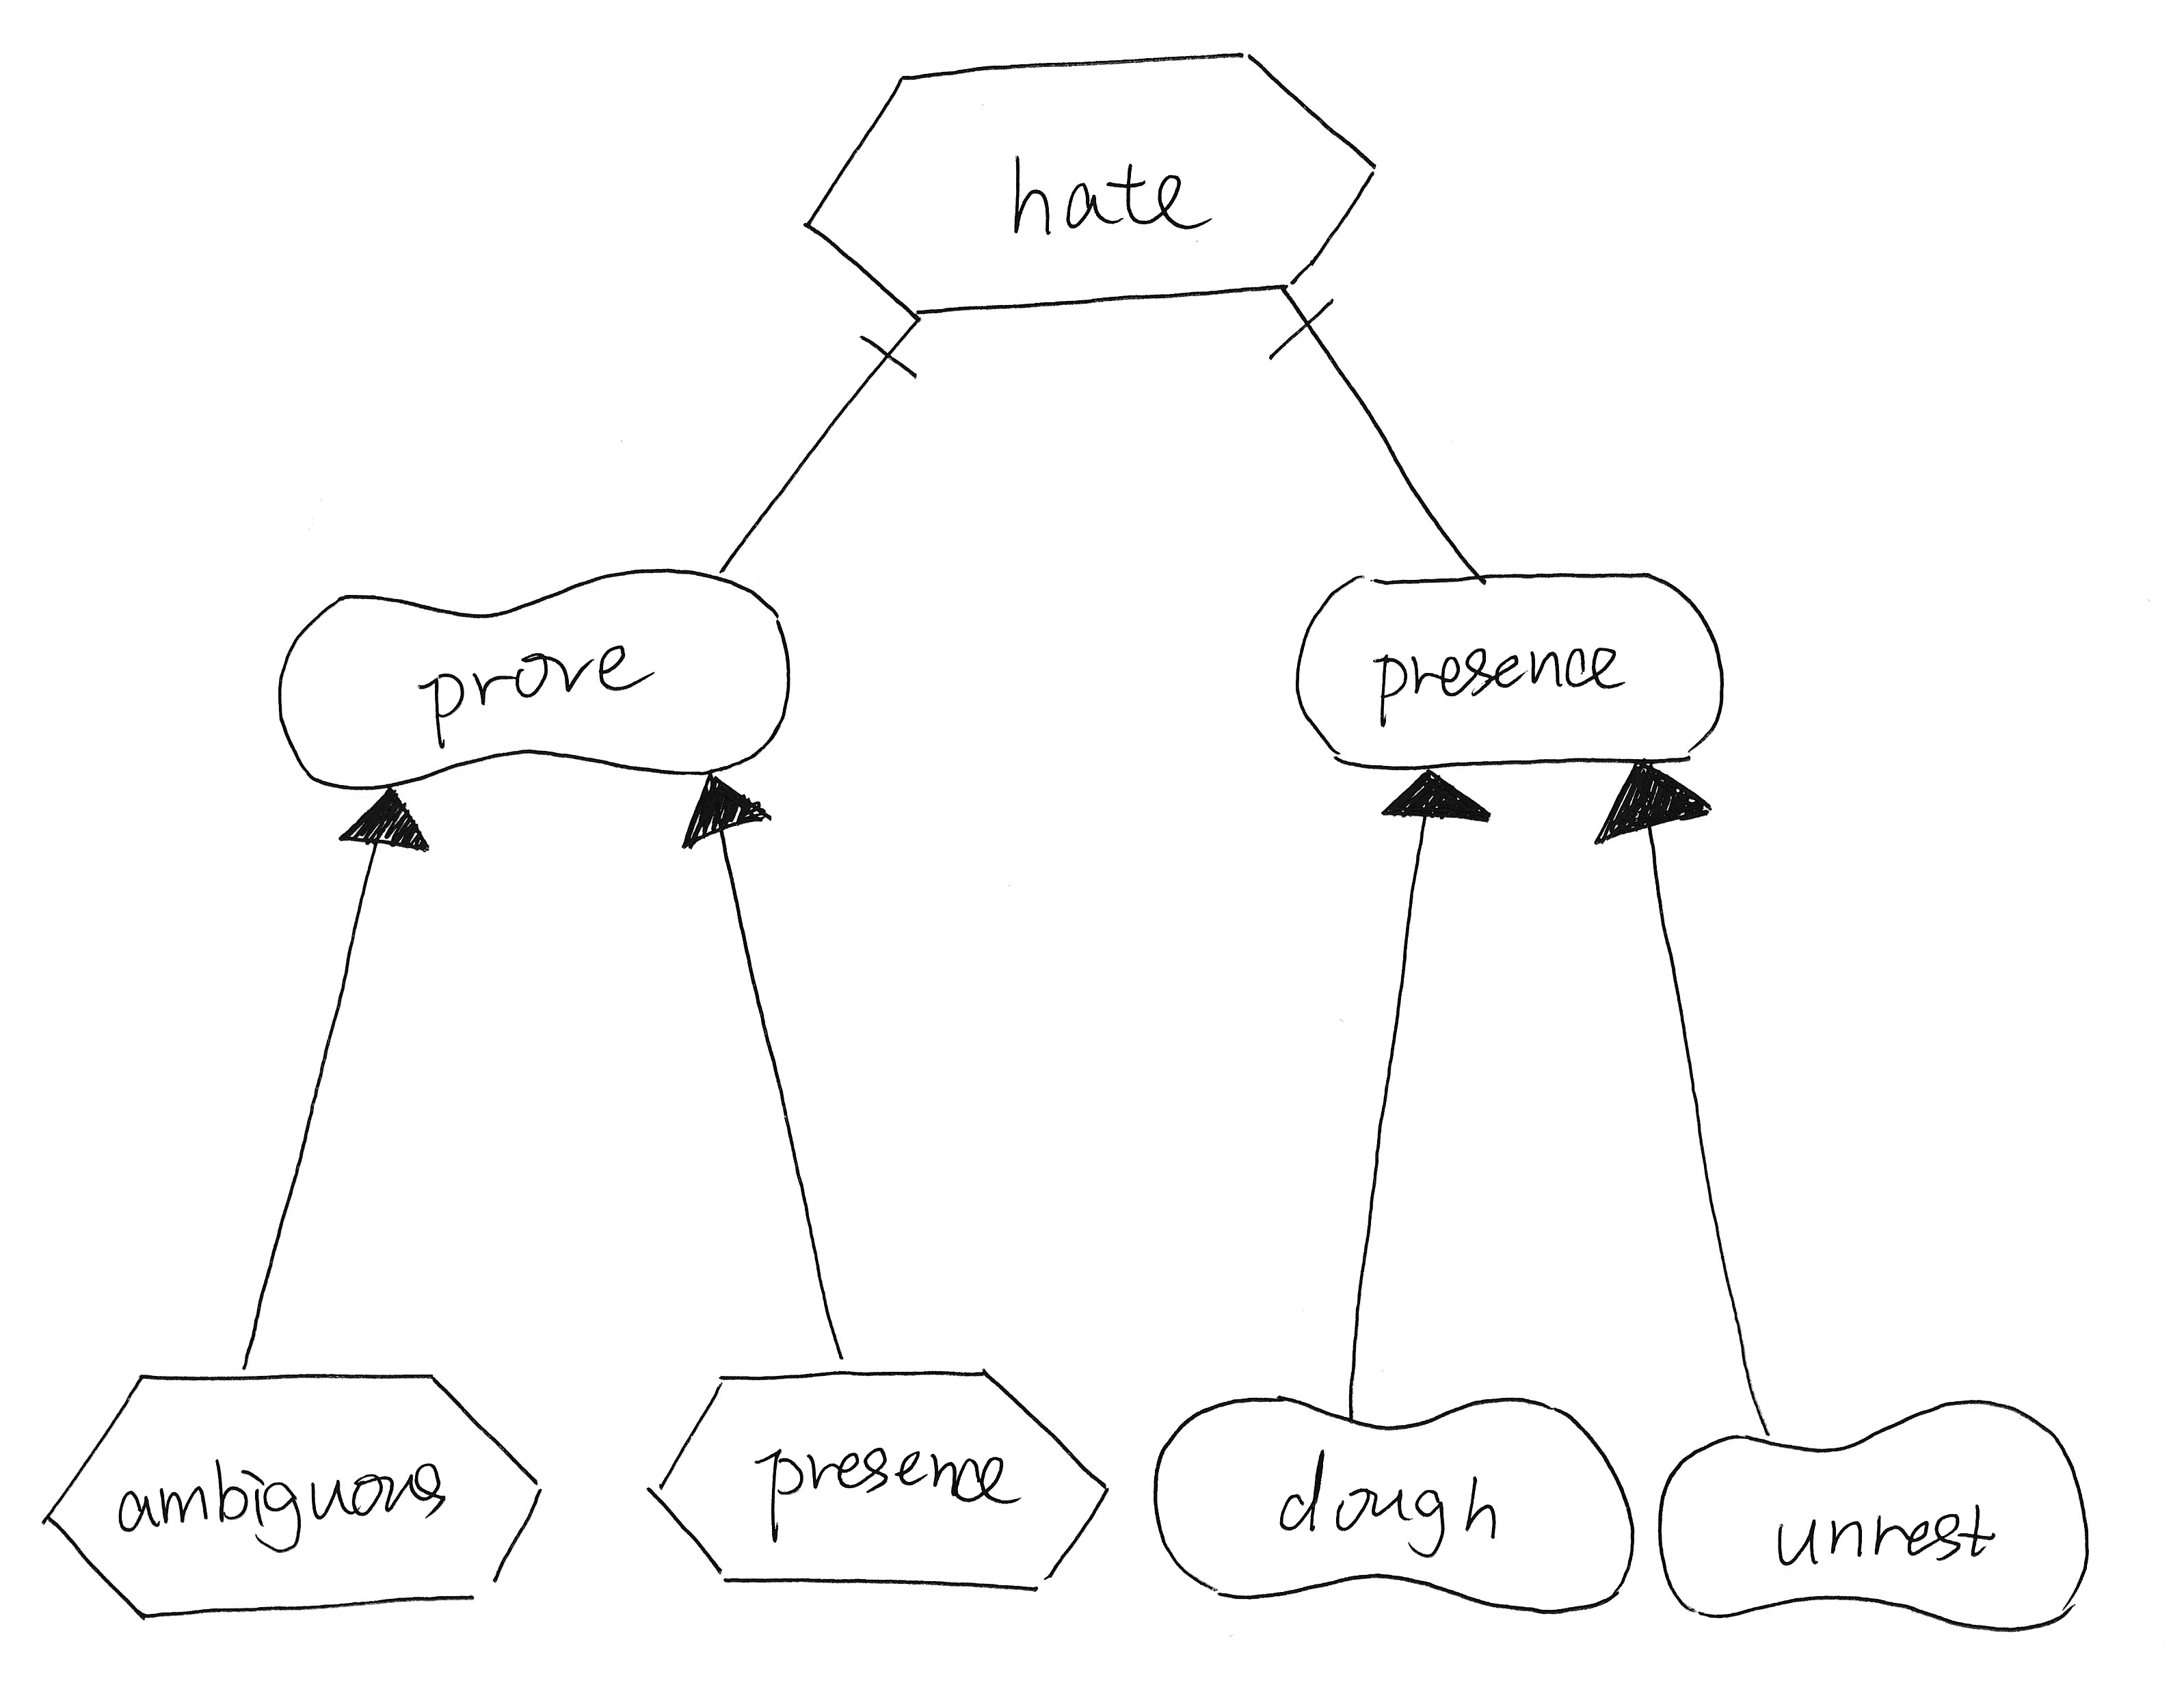and: (1246, 292, 1356, 372), (840, 312, 927, 401)
goal: (1278, 556, 1748, 787)
or: (1583, 750, 1723, 860), (1369, 757, 1501, 851), (661, 764, 787, 861), (331, 773, 436, 870)
quality: (261, 546, 803, 805), (1143, 1375, 1654, 1632), (1647, 1384, 2102, 1648)
task: (791, 28, 1402, 333), (25, 1356, 558, 1632), (633, 1354, 1122, 1629)
